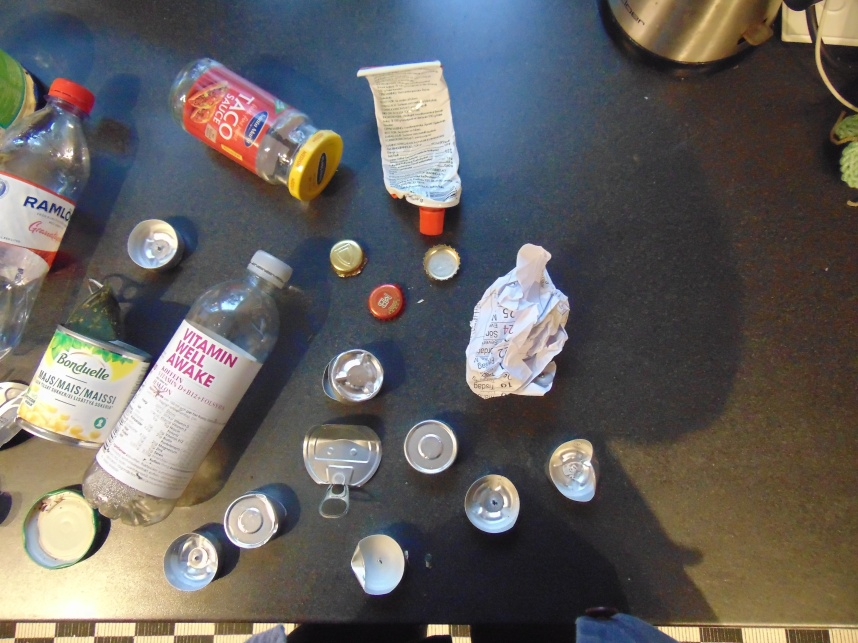glass_bottle: (167, 56, 344, 198), (1, 56, 37, 133)
metal: (354, 59, 463, 213), (301, 419, 382, 522), (21, 489, 101, 571), (161, 529, 223, 593), (223, 490, 288, 551), (349, 530, 408, 597), (461, 473, 522, 533), (546, 439, 602, 501), (319, 349, 383, 403), (402, 417, 459, 476), (125, 218, 183, 268), (69, 274, 123, 327), (421, 243, 462, 286), (366, 282, 407, 324), (327, 239, 369, 278)
metal_can: (15, 326, 153, 451), (608, 1, 762, 62)
plastic_bottle: (83, 251, 291, 526), (1, 79, 94, 362)
